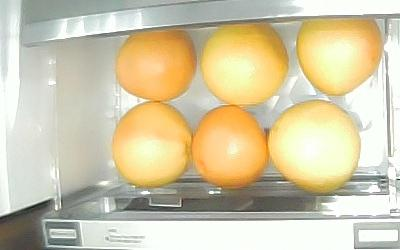grapefruit: (267, 100, 362, 193), (201, 22, 289, 105), (112, 101, 192, 188), (297, 17, 381, 96), (192, 105, 268, 187), (117, 28, 197, 101)
